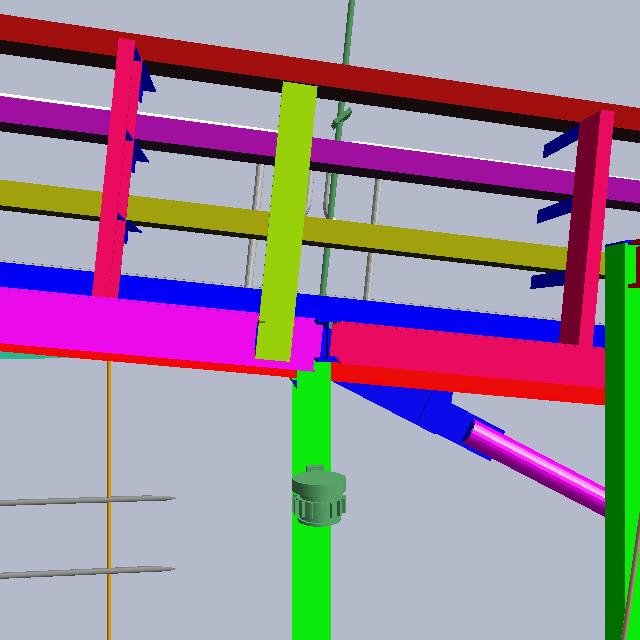Poste: (304, 1, 368, 341)
